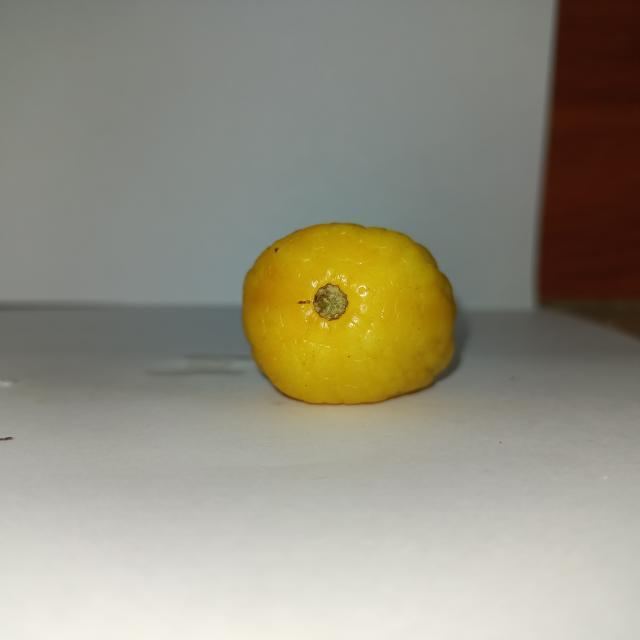Red: (240, 220, 457, 405)
